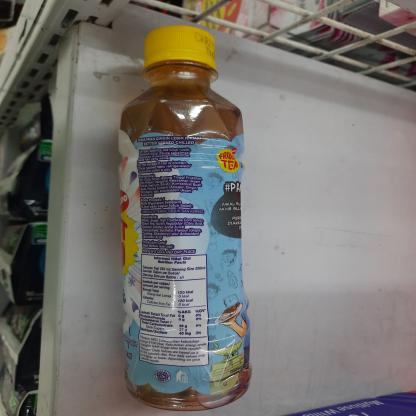bottle: (115, 20, 257, 415)
